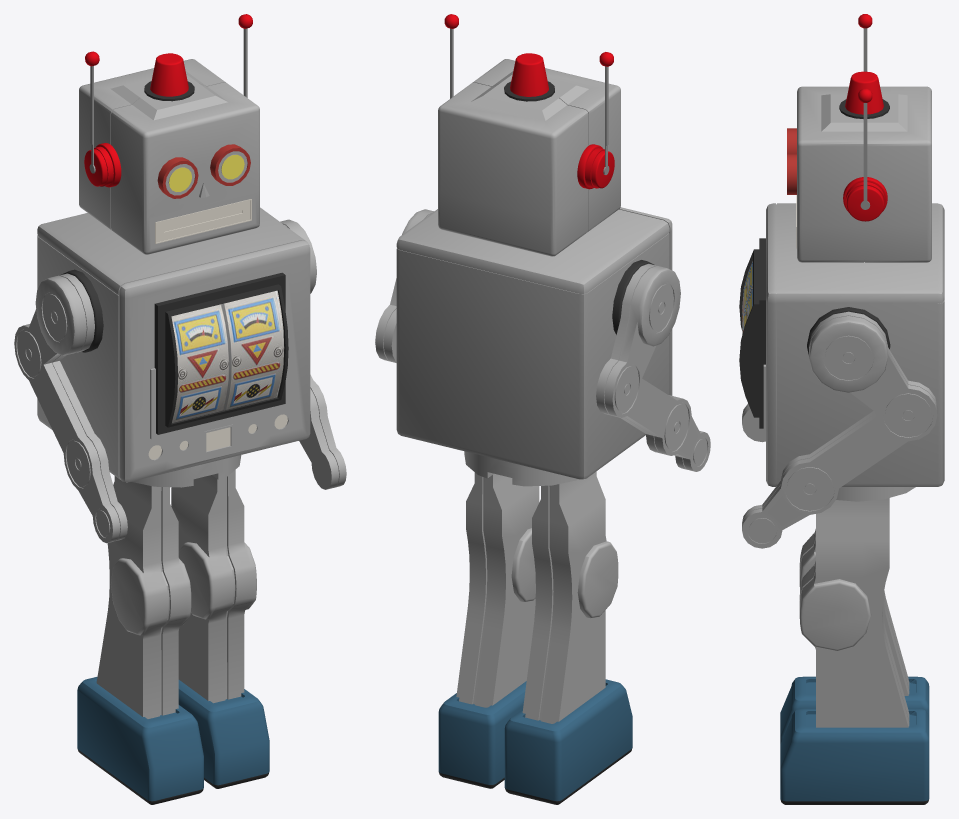
The model's file is robot_toy.fbx.
3 renders of one model, left to right at view 1: azimuth 30°, elevation 25°; view 2: azimuth 150°, elevation 25°; view 3: azimuth 270°, elevation 25°, orthographic.
Visible parts, largest first — view 1: upper_body, head, right_leg, left_leg, right_arm, screen, left_foot, right_foot, left_arm, eyes, left_ear; view 2: upper_body, head, right_leg, left_leg, right_arm, left_foot, right_foot, left_ear, left_arm; view 3: upper_body, head, left_leg, left_arm, right_foot, right_ear, left_foot, right_leg, eyes, right_arm, screen, left_ear.
Part boxes in pixels (x1,y1,x2,y2): upper_body: (37, 207, 310, 487); head: (79, 53, 259, 254); right_leg: (96, 476, 191, 718); left_leg: (171, 470, 256, 703); right_arm: (14, 269, 127, 543); screen: (171, 290, 284, 422); left_foot: (77, 676, 203, 804); right_foot: (178, 680, 269, 788); left_arm: (280, 219, 346, 489); eyes: (157, 144, 250, 198); left_ear: (84, 51, 121, 187); upper_body: (396, 207, 672, 486); head: (438, 53, 620, 256); right_leg: (522, 471, 618, 723); left_leg: (456, 472, 539, 707); right_arm: (596, 260, 710, 471); left_foot: (504, 679, 632, 804); right_foot: (438, 681, 526, 788); left_ear: (577, 52, 614, 189); left_arm: (375, 209, 433, 362); upper_body: (739, 203, 944, 501); head: (796, 71, 931, 262); left_leg: (799, 498, 909, 727); left_arm: (742, 307, 937, 548); right_foot: (780, 708, 929, 804); right_ear: (843, 88, 887, 221); left_foot: (780, 676, 929, 743); right_leg: (799, 529, 909, 695); eyes: (787, 128, 796, 194); right_arm: (742, 403, 765, 442); screen: (742, 261, 752, 334); left_ear: (858, 14, 872, 71).
Size of the model in its own units: 208 by 593 by 152.
Materials: 2 (2 with a texture image).
